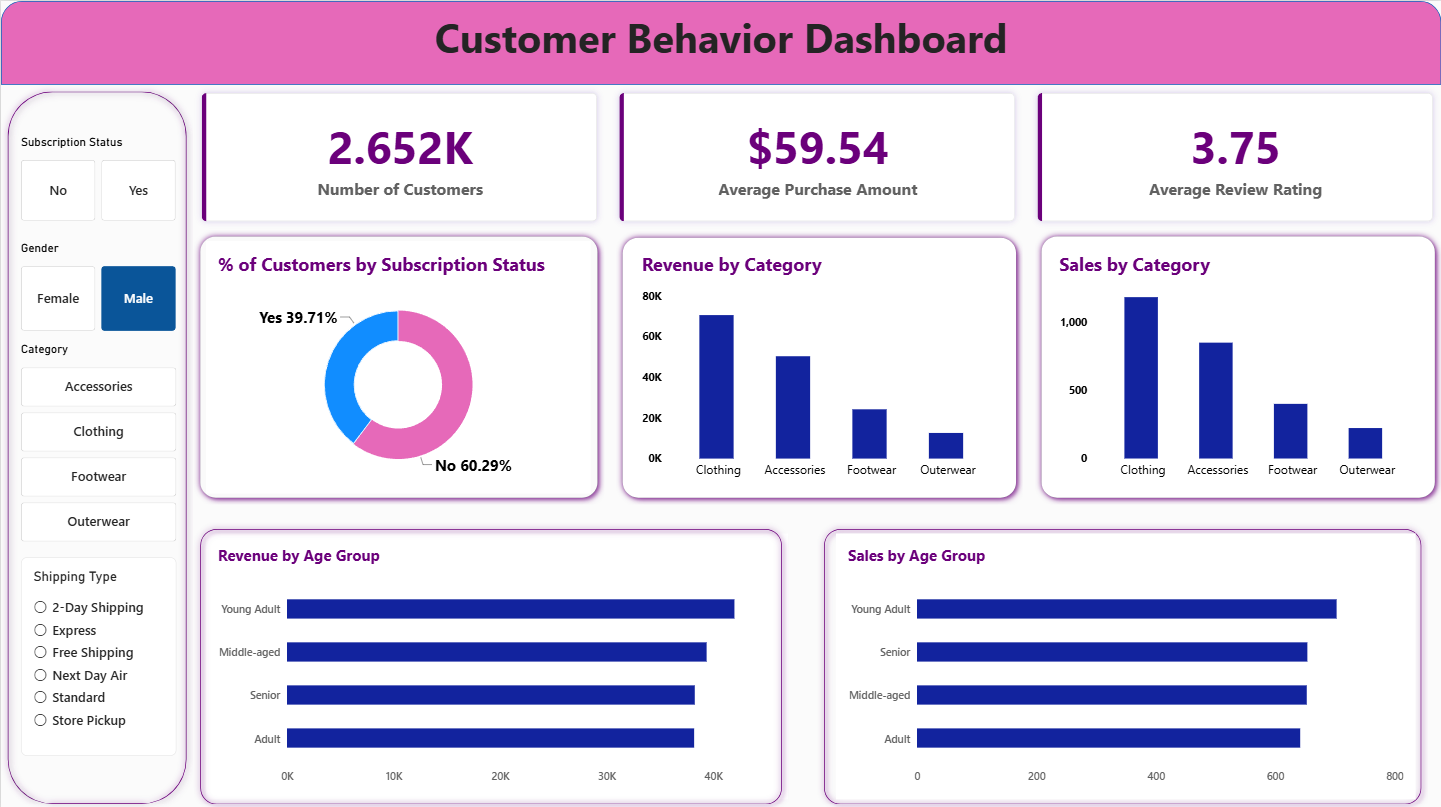

The dashboard page shown, as its layout file describes it:
{"tool":"powerbi","page":{"name":"Page 1","canvas":[1920,1080],"ordinal":0},"visuals":[{"type":"cardVisual","fields":{"Data":["customer_bahavior customer_data.Number of Customers","customer_bahavior customer_data.Average Purchase Amount","customer_bahavior customer_data.Average Review Rating"]},"box":[256.4,111.6,1664,193.6],"z":0},{"type":"shape","box":[0,0,1920.4,111.6],"z":1000},{"type":"textbox","box":[0,12.2,1920.4,99.4],"z":2000},{"type":"shape","box":[256.4,305.2,547.7,366.3],"z":3000},{"type":"donutChart","title":"% of Customers by Subscription Status","fields":{"Category":["customer_bahavior customer_data.subscription_status"],"Y":["CountNonNull(customer_bahavior customer_data.customer_id)"]},"box":[273.8,319.2,512.8,336.6],"z":4000},{"type":"shape","box":[819.8,307,542.4,364.5],"z":5000},{"type":"shape","box":[1377.6,305.2,542.4,366.3],"z":6000},{"type":"clusteredColumnChart","title":"Revenue by Category","fields":{"Y":["Sum(customer_bahavior customer_data.purchase_amount)"],"Category":["customer_bahavior customer_data.category"]},"box":[838.7,319.6,506.6,336.7],"z":7000},{"type":"clusteredColumnChart","title":"Sales by Category","fields":{"Y":["CountNonNull(customer_bahavior customer_data.customer_id)"],"Category":["customer_bahavior customer_data.category"]},"box":[1395.4,319.2,507.6,336.6],"z":8000},{"type":"shape","box":[0,111.6,256.4,968],"z":9000},{"type":"advancedSlicerVisual","title":"Subscription Status","fields":{"Values":["customer_bahavior customer_data.subscription_status"]},"box":[26.2,177.9,207.6,115.1],"z":10000},{"type":"advancedSlicerVisual","title":"Gender","fields":{"Values":["customer_bahavior customer_data.gender"]},"box":[26.2,319.2,207.6,120.3],"z":11000},{"type":"advancedSlicerVisual","title":"Category","fields":{"Values":["customer_bahavior customer_data.category"]},"box":[26.2,455.2,207.6,266.9],"z":12000},{"type":"listSlicer","title":"Shipping Type","fields":{"Values":["customer_bahavior customer_data.shipping_type"]},"box":[26.2,741.3,207.6,265.1],"z":13000},{"type":"clusteredBarChart","title":"Revenue by Age Group","fields":{"Y":["Sum(customer_bahavior customer_data.purchase_amount)"],"Category":["customer_bahavior customer_data.age_group"]},"box":[273.8,709.9,776.2,354.1],"z":14000},{"type":"shape","box":[256.4,694.2,793.6,385.5],"z":15000},{"type":"shape","box":[1088.4,694.2,814.5,385.5],"z":16000},{"type":"clusteredBarChart","title":"Sales by Age Group","fields":{"Y":["CountNonNull(customer_bahavior customer_data.customer_id)"],"Category":["customer_bahavior customer_data.age_group"]},"box":[1112.8,709.9,772.7,354.1],"z":17000}]}

Visuals, with their boxes in screenshot pixels (x1, y1, x2, y2), scaled from the page's 1920x1080 canvas onto the 1441x807 screenshot:
cardVisual - customer_bahavior customer_data.Number of Customers x customer_bahavior customer_data.Average Purchase Amount: <bbox>192, 83, 1440, 228</bbox>
shape: <bbox>0, 0, 1440, 83</bbox>
textbox: <bbox>0, 9, 1440, 83</bbox>
shape: <bbox>192, 228, 603, 502</bbox>
"% of Customers by Subscription Status" donutChart: <bbox>205, 239, 590, 490</bbox>
shape: <bbox>615, 229, 1022, 502</bbox>
shape: <bbox>1034, 228, 1440, 502</bbox>
"Revenue by Category" clusteredColumnChart: <bbox>629, 239, 1010, 490</bbox>
"Sales by Category" clusteredColumnChart: <bbox>1047, 239, 1428, 490</bbox>
shape: <bbox>0, 83, 192, 806</bbox>
"Subscription Status" advancedSlicerVisual: <bbox>20, 133, 175, 219</bbox>
"Gender" advancedSlicerVisual: <bbox>20, 239, 175, 328</bbox>
"Category" advancedSlicerVisual: <bbox>20, 340, 175, 540</bbox>
"Shipping Type" listSlicer: <bbox>20, 554, 175, 752</bbox>
"Revenue by Age Group" clusteredBarChart: <bbox>205, 530, 788, 795</bbox>
shape: <bbox>192, 519, 788, 806</bbox>
shape: <bbox>817, 519, 1428, 806</bbox>
"Sales by Age Group" clusteredBarChart: <bbox>835, 530, 1415, 795</bbox>
